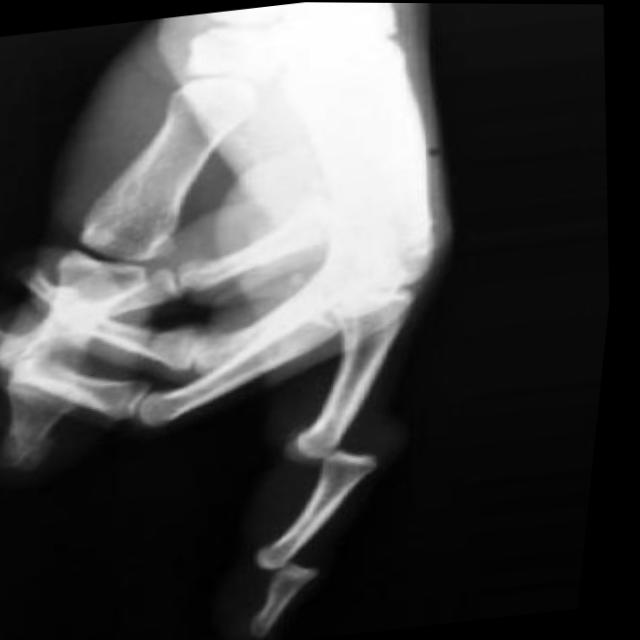fracture: (271, 425, 416, 484), (268, 546, 345, 590)
